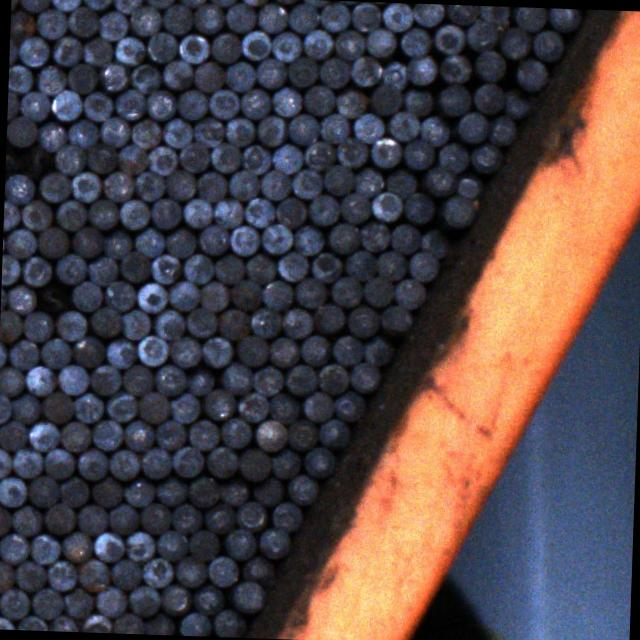tool: (97, 211, 144, 264), (2, 384, 50, 434), (188, 582, 228, 616), (266, 388, 301, 424), (182, 361, 218, 396), (201, 386, 236, 421), (158, 580, 192, 616), (3, 280, 39, 314), (332, 388, 368, 422), (218, 360, 254, 394), (346, 302, 380, 338), (366, 82, 404, 114), (93, 584, 128, 618), (121, 472, 155, 507), (186, 416, 220, 451), (254, 418, 288, 453), (200, 333, 234, 368), (234, 332, 268, 367), (151, 304, 185, 339), (342, 248, 377, 282), (298, 333, 334, 366), (229, 580, 266, 612), (346, 361, 384, 392), (76, 558, 110, 592), (28, 532, 62, 566), (186, 472, 220, 506), (171, 444, 205, 478), (26, 418, 60, 452), (168, 390, 202, 424), (152, 362, 186, 396), (195, 168, 229, 202), (127, 114, 161, 148), (238, 86, 272, 120), (350, 110, 384, 144), (332, 27, 366, 61), (236, 447, 271, 480), (19, 252, 54, 285), (441, 194, 476, 227), (240, 554, 276, 586), (104, 390, 140, 422), (379, 302, 415, 334), (330, 85, 366, 117), (175, 554, 208, 588), (256, 526, 290, 559), (72, 334, 105, 368), (54, 309, 88, 342), (121, 362, 154, 396), (168, 334, 201, 368), (294, 274, 328, 307), (291, 223, 325, 256), (273, 195, 307, 228), (270, 140, 303, 174), (436, 140, 470, 173), (417, 112, 450, 146), (514, 57, 548, 90), (176, 31, 210, 64), (498, 25, 532, 58), (300, 446, 335, 478), (5, 338, 40, 370), (286, 416, 318, 451), (469, 140, 504, 172), (31, 587, 64, 620), (217, 306, 250, 339), (306, 192, 339, 225), (140, 556, 174, 588), (156, 528, 188, 562), (140, 500, 172, 534), (170, 500, 204, 532), (58, 473, 90, 507), (155, 470, 187, 504), (42, 447, 76, 479), (140, 445, 172, 479), (207, 554, 239, 588), (223, 528, 257, 560), (270, 499, 304, 531), (90, 417, 122, 451), (58, 362, 90, 396), (154, 418, 186, 452), (219, 417, 253, 449), (138, 388, 170, 422), (300, 389, 334, 421), (284, 362, 316, 396), (316, 362, 348, 396), (280, 306, 314, 338), (135, 280, 169, 312), (229, 278, 263, 310), (330, 274, 362, 308), (408, 248, 440, 282), (70, 224, 102, 258), (198, 222, 230, 256), (118, 196, 150, 230), (149, 196, 183, 228), (101, 170, 135, 202), (146, 142, 178, 176), (208, 140, 242, 172), (192, 116, 226, 148), (326, 222, 360, 254), (368, 190, 402, 222), (338, 191, 372, 223), (290, 168, 324, 200), (322, 163, 354, 197), (369, 136, 403, 168), (286, 112, 320, 144), (401, 86, 435, 118), (437, 83, 471, 115), (500, 85, 532, 119), (436, 52, 470, 84), (472, 48, 504, 82), (16, 35, 50, 67), (50, 34, 84, 66), (113, 34, 147, 66), (430, 22, 464, 54), (465, 18, 499, 50), (530, 29, 564, 61), (137, 332, 168, 367), (393, 277, 428, 308), (128, 583, 160, 616), (91, 530, 124, 562), (11, 504, 44, 536), (26, 474, 59, 506), (76, 447, 108, 480), (108, 448, 141, 480), (204, 446, 237, 478), (59, 420, 92, 452), (42, 390, 74, 423), (72, 390, 105, 422), (89, 363, 122, 395), (22, 308, 54, 341), (71, 279, 104, 311), (103, 337, 136, 369), (185, 305, 218, 337), (118, 250, 150, 283), (180, 251, 213, 283), (309, 250, 342, 282), (36, 225, 69, 257), (230, 222, 262, 255), (19, 198, 52, 230), (164, 167, 196, 200), (116, 142, 149, 174), (160, 114, 192, 147), (50, 87, 82, 120), (82, 89, 114, 122), (114, 86, 146, 119), (192, 59, 224, 92), (422, 164, 454, 197), (316, 56, 348, 89), (191, 2, 224, 34), (223, 0, 256, 32), (270, 28, 302, 61), (318, 0, 351, 32), (74, 503, 108, 534), (122, 418, 153, 452), (318, 417, 352, 448), (331, 334, 365, 365), (364, 332, 398, 363), (312, 301, 346, 332), (245, 250, 276, 284), (275, 249, 309, 280), (358, 218, 389, 252), (388, 222, 419, 256), (335, 135, 369, 166), (382, 166, 417, 196), (62, 585, 94, 617), (14, 560, 46, 592), (45, 558, 77, 590), (123, 528, 155, 560), (108, 502, 140, 534), (204, 500, 236, 532), (90, 474, 122, 506), (286, 473, 318, 505), (24, 364, 56, 396), (90, 304, 122, 336), (54, 252, 86, 284), (86, 254, 118, 286), (212, 252, 244, 284), (376, 248, 408, 280), (87, 198, 119, 230), (212, 197, 244, 229), (70, 170, 102, 202), (54, 142, 86, 174), (176, 88, 208, 120), (34, 64, 66, 96), (402, 190, 434, 222), (242, 196, 274, 228), (260, 168, 292, 200), (303, 139, 335, 171), (318, 111, 350, 143), (350, 54, 382, 86), (68, 5, 100, 37), (96, 8, 128, 40), (128, 2, 160, 34), (160, 2, 192, 34), (187, 528, 220, 559), (11, 447, 44, 478), (3, 226, 36, 257), (164, 224, 195, 257), (37, 170, 70, 201), (224, 59, 255, 92), (487, 113, 518, 146), (286, 2, 319, 33), (213, 608, 247, 638), (38, 337, 72, 367), (18, 90, 52, 120), (110, 558, 141, 590), (61, 530, 92, 562), (43, 502, 75, 533), (236, 390, 268, 421), (104, 278, 135, 310), (168, 279, 199, 311), (150, 252, 181, 284), (54, 199, 86, 230), (134, 170, 165, 202), (66, 117, 98, 148), (223, 115, 255, 146), (144, 88, 176, 119), (67, 62, 99, 93), (301, 84, 333, 115), (472, 81, 503, 113), (286, 55, 318, 86), (210, 31, 241, 63), (256, 0, 287, 32), (0, 586, 30, 619), (235, 500, 268, 530), (251, 476, 284, 506), (121, 306, 151, 339), (4, 171, 34, 204), (227, 169, 260, 199), (262, 222, 292, 255), (386, 110, 419, 140), (458, 109, 488, 142), (511, 6, 548, 32), (406, 54, 437, 85), (218, 474, 250, 504), (253, 363, 283, 395), (268, 334, 298, 366), (182, 196, 212, 228), (178, 142, 210, 172), (37, 120, 67, 152), (208, 86, 238, 118), (98, 60, 130, 90), (162, 58, 192, 90), (453, 170, 485, 200), (402, 138, 434, 168), (256, 56, 286, 88), (36, 6, 66, 38), (366, 26, 396, 58), (241, 28, 270, 61), (10, 6, 36, 42), (249, 306, 280, 336), (198, 279, 228, 310), (362, 276, 393, 306), (86, 142, 117, 172), (6, 115, 37, 145), (99, 115, 129, 146), (354, 166, 384, 197), (241, 143, 271, 174), (302, 29, 332, 60), (350, 1, 380, 32), (0, 531, 29, 563), (270, 448, 300, 478), (134, 226, 164, 256), (130, 60, 160, 90), (420, 226, 450, 256), (256, 114, 286, 144), (271, 86, 301, 116), (146, 31, 176, 61), (400, 25, 430, 55), (262, 279, 293, 308), (0, 475, 28, 507), (380, 2, 412, 30), (178, 610, 212, 636), (379, 57, 406, 89), (546, 8, 582, 32), (0, 418, 26, 451), (144, 610, 176, 635), (84, 36, 112, 64), (112, 610, 144, 634), (0, 363, 24, 395), (411, 3, 443, 27), (8, 63, 33, 93), (478, 6, 512, 27), (0, 309, 22, 340), (444, 4, 478, 24), (80, 612, 112, 633), (1, 253, 21, 284), (47, 614, 80, 632), (3, 198, 20, 230), (16, 614, 48, 630), (0, 560, 15, 592), (7, 89, 20, 119), (17, 0, 49, 12), (110, 0, 142, 11), (0, 504, 11, 535), (0, 391, 10, 425), (0, 446, 10, 478), (50, 0, 81, 10), (80, 0, 110, 9), (144, 0, 175, 7)
tool_b: (4, 129, 66, 188), (24, 266, 84, 321)
void: (489, 44, 532, 92)
